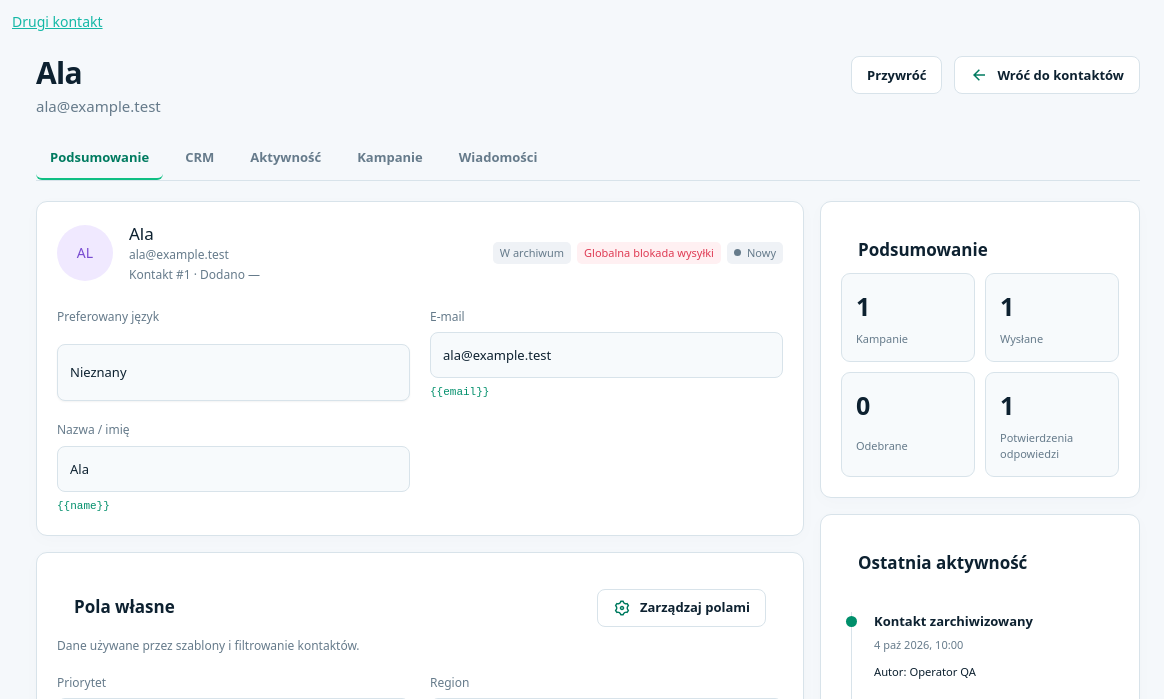
shows operation authors separately from messages and preserves independent blocks
The width and height of the screenshot is (1164, 699).
Expected: the field labelled "Nazwa / imię" is shown, [57, 446, 410, 492]
Expected: the text "Globalna blokada wysyłki" is shown, [577, 242, 721, 264]
Click the tab "Aktywność": (286, 158) [236, 138, 335, 180]
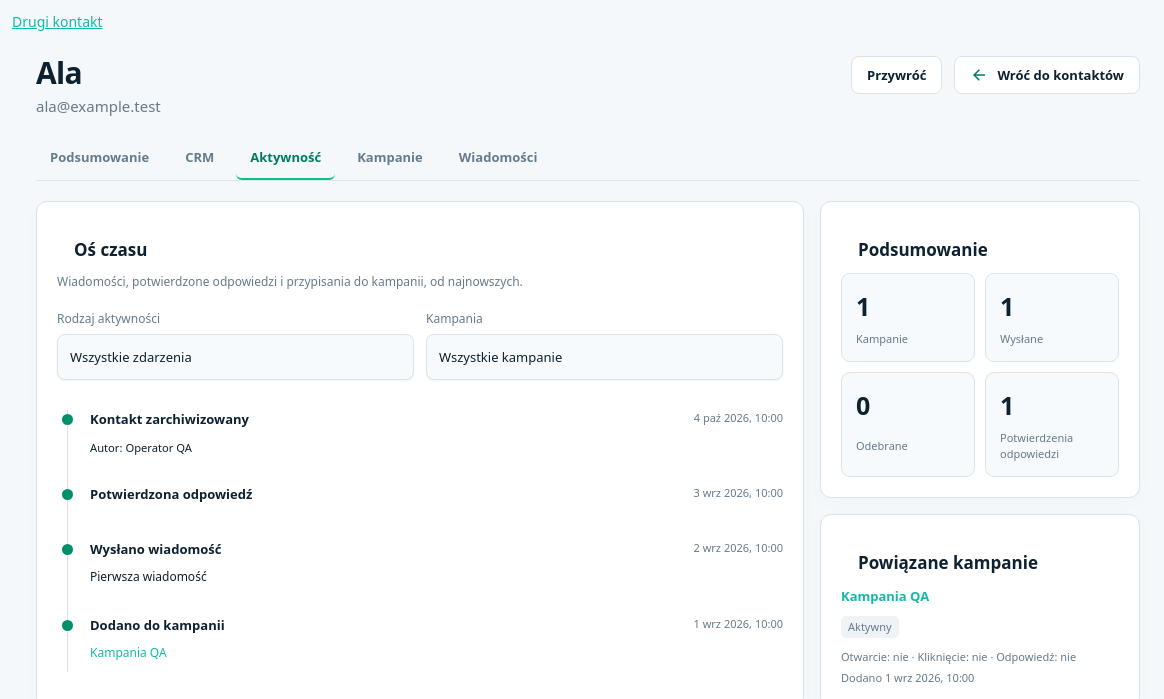
Expected: the text "Kontakt zarchiwizowany" is shown, [90, 410, 249, 429]
Expected: the text "Autor: Operator QA" is shown, [90, 440, 192, 455]
Click the tab "Wiadomości": (498, 158) [445, 138, 551, 180]
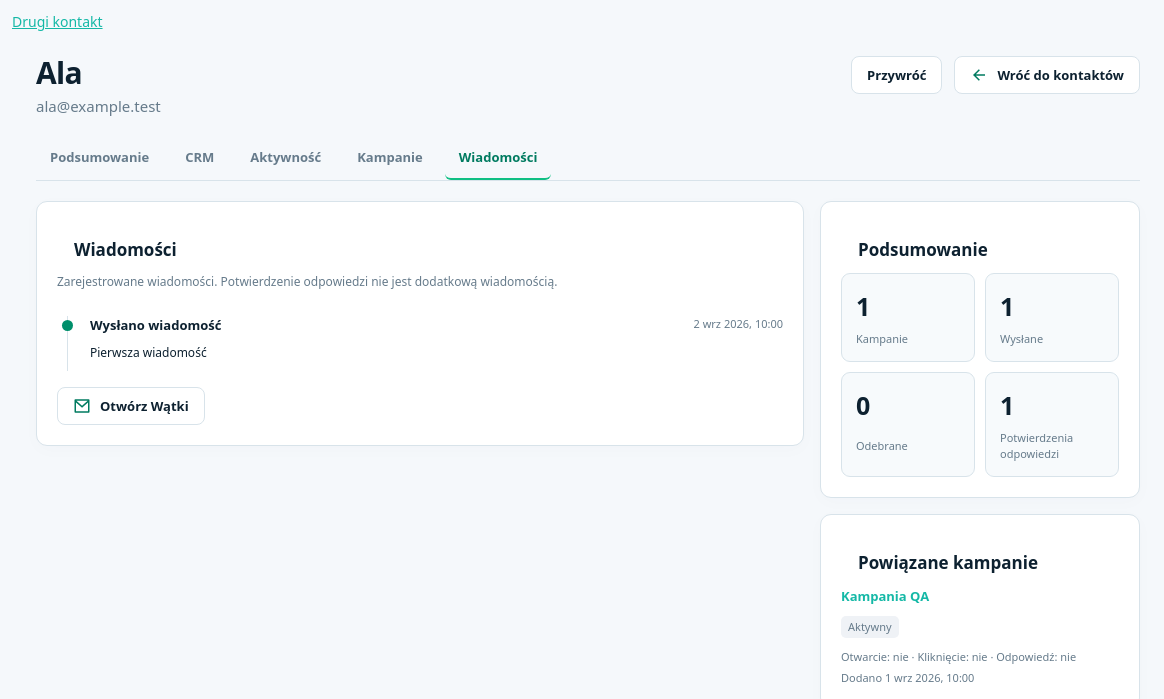
Expected: the text "Pierwsza wiadomość" is shown, [90, 344, 207, 361]
Expected: the text "Kontakt zarchiwizowany" is gone
